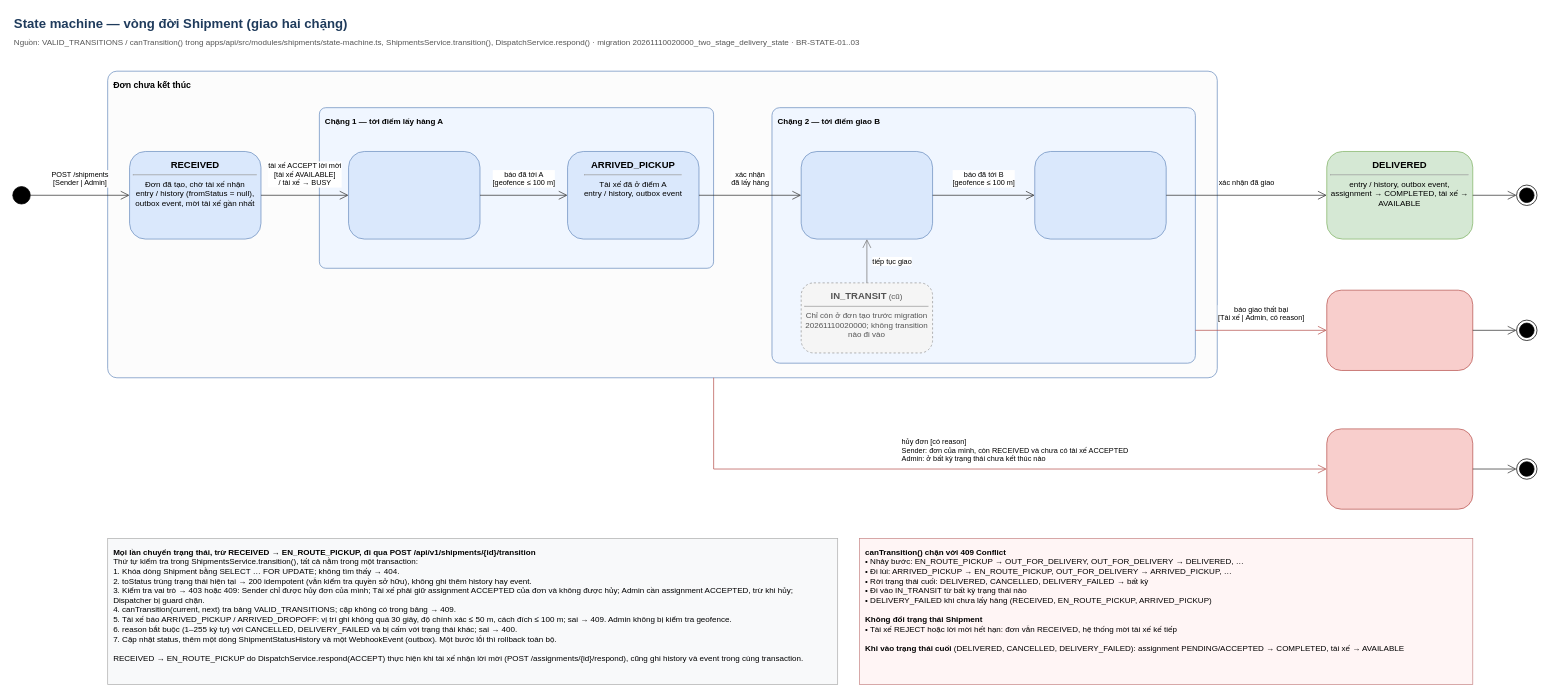
This 1550x697 diagram has some shape labels left out. The shapes that lost their labels are listed below. From the top down, each one's centre as x and y in pixels, then its label:
At (414,195): "EN_ROUTE_PICKUP Tài xế đã nhận đơn, đang tới A entry / history, outbox event".
At (866,195): "OUT_FOR_DELIVERY Đã lấy hàng, đang tới B entry / history, outbox event".
At (1100,195): "ARRIVED_DROPOFF Tài xế đã ở điểm B entry / history, outbox event".
At (1399,329): "DELIVERY_FAILED entry / lưu reason, history, outbox event, giải phóng tài xế".
At (1399,468): "CANCELLED entry / lưu reason, history, outbox event, giải phóng tài xế nếu có".
